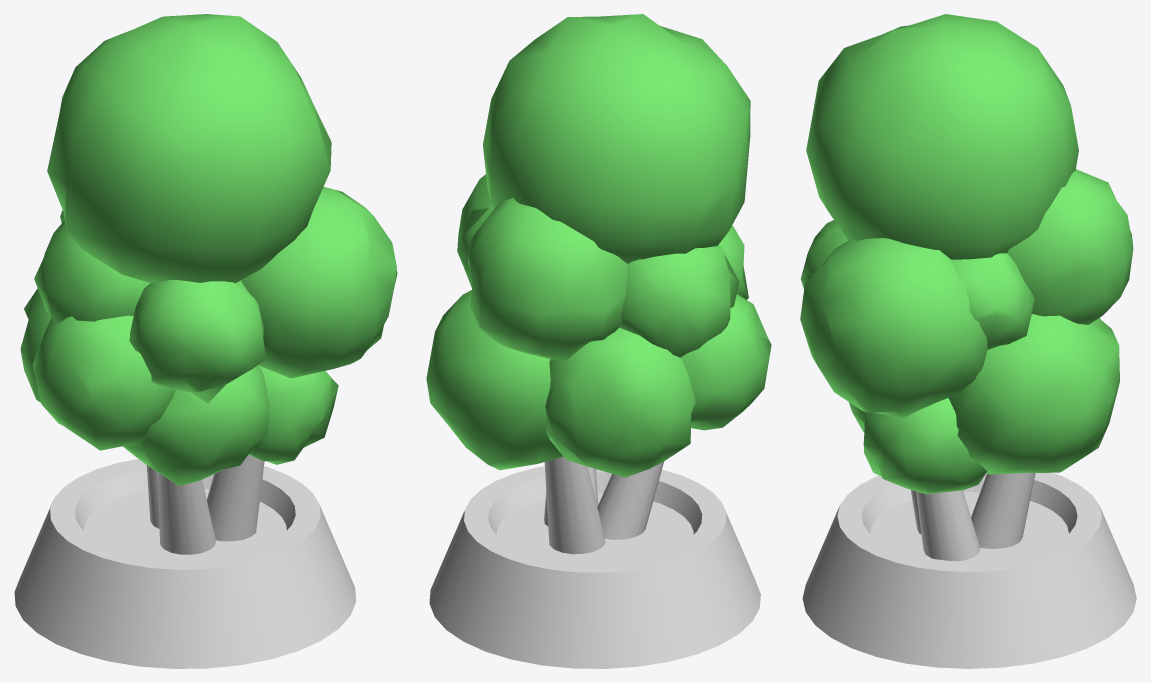
File: Plant_01.fbx
3 renders of one model, left to right at view 1: azimuth 30°, elevation 25°; view 2: azimuth 150°, elevation 25°; view 3: azimuth 270°, elevation 25°, orthographic. The views are drawn at different scales.
Parts seen in each view (by area): view 1: Plant, Pot; view 2: Plant, Pot; view 3: Plant, Pot.
Boxes of the visible parts, x1=… form: Plant: x1=20, y1=14, x2=397, y2=554; Pot: x1=14, y1=459, x2=356, y2=668; Plant: x1=426, y1=14, x2=771, y2=554; Pot: x1=429, y1=466, x2=760, y2=668; Plant: x1=800, y1=14, x2=1133, y2=561; Pot: x1=802, y1=472, x2=1136, y2=668.
Size of the model in its own units: 85.59 by 150 by 80.32.
